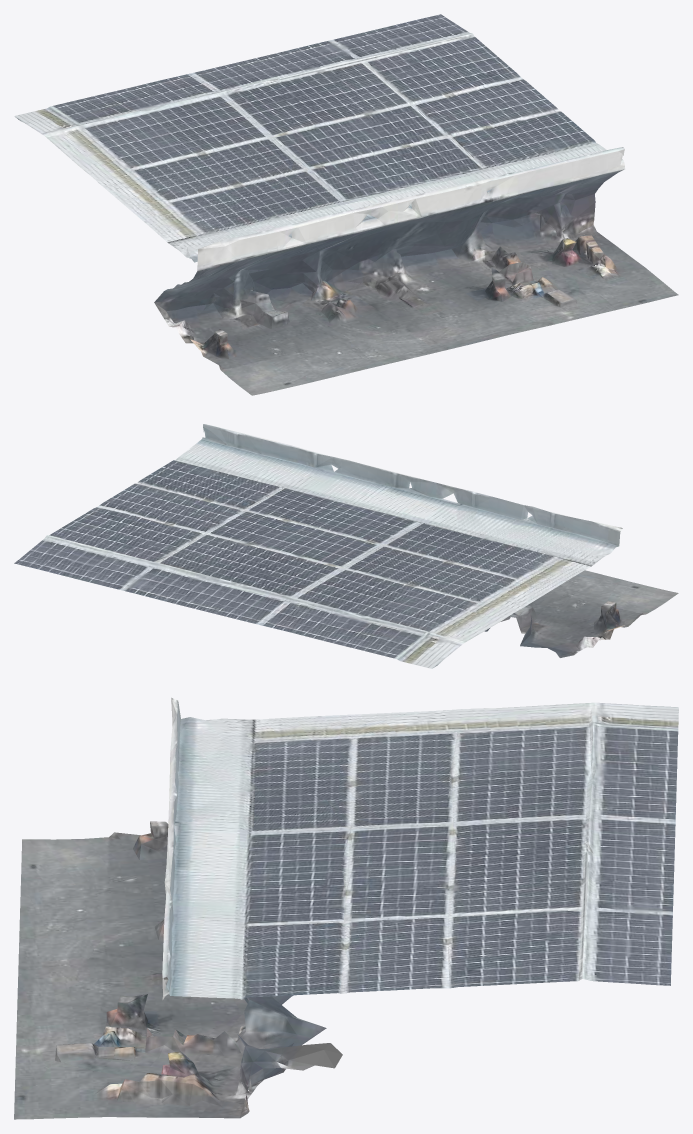
File: Tile_+005_+008_L19_0uuuu1.glb
The picture shows the model from 3 angles, top to bottom: view 1: azimuth 30°, elevation 25°; view 2: azimuth 150°, elevation 25°; view 3: azimuth 270°, elevation 25°; orthographic projection. The views are drawn at different scales.
Parts seen in each view (by area): view 1: rtc; view 2: rtc; view 3: rtc.
Part boxes in pixels (box(x1,y1,x2,y2)): rtc: box(14, 14, 678, 395); rtc: box(14, 424, 678, 668); rtc: box(14, 697, 678, 1119).
Bounding box in the file's own units: 48.04 × 11.52 × 47.74.
5 materials, 5 textured.
